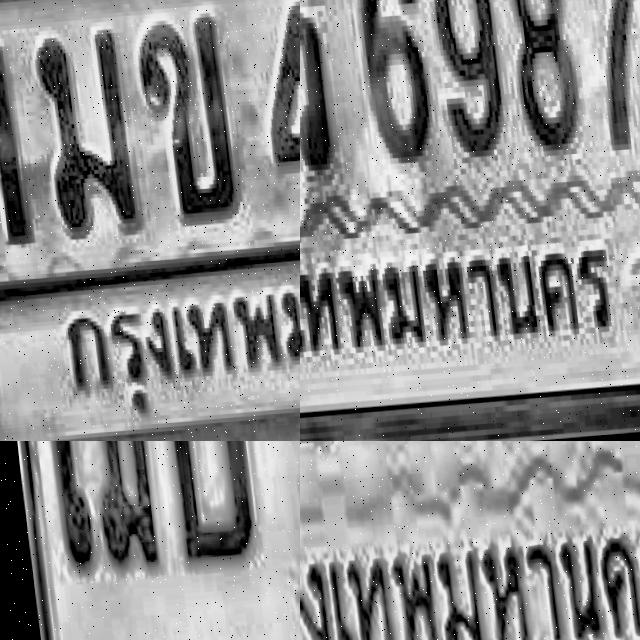license-plate: (300, 0, 640, 441), (0, 0, 300, 441), (300, 441, 640, 640), (0, 441, 300, 640)
